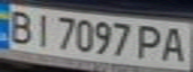0: (72, 17, 93, 54)
7: (51, 14, 78, 52), (112, 20, 136, 58)
9: (90, 18, 115, 56)
A: (157, 25, 190, 63)
B: (3, 7, 39, 45)
I: (30, 11, 57, 47)
P: (133, 21, 166, 61)
